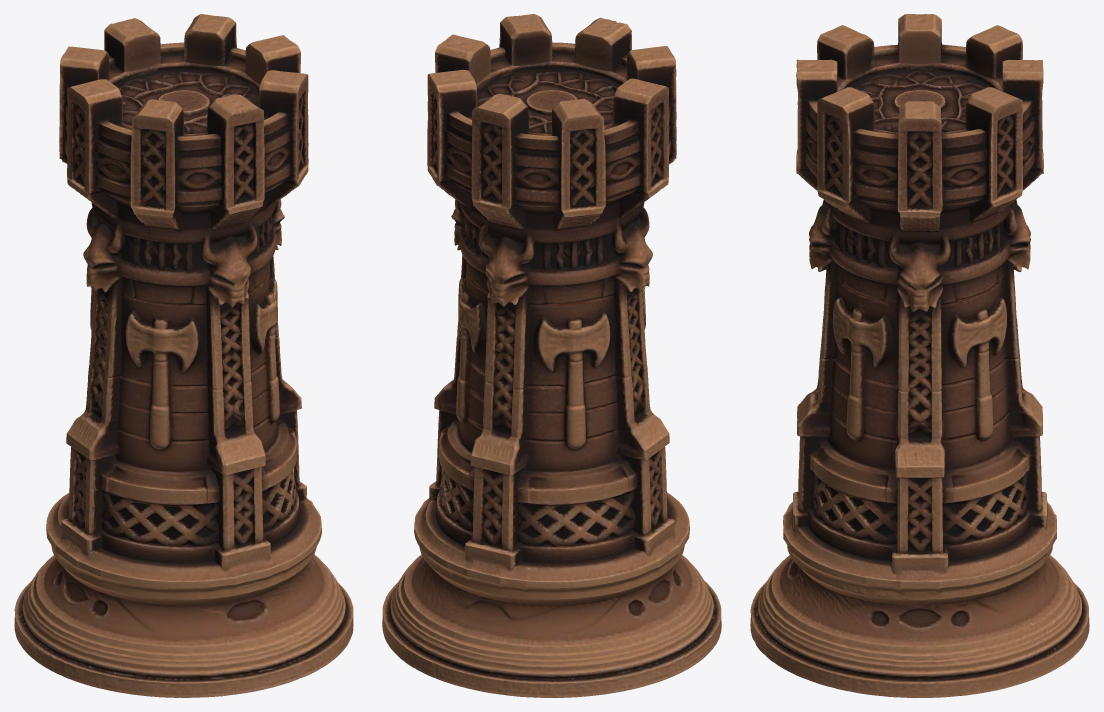
The model's file is rook+3d.glb.
The picture shows the model from 3 angles, left to right: view 1: azimuth 30°, elevation 25°; view 2: azimuth 150°, elevation 25°; view 3: azimuth 270°, elevation 25°; orthographic projection.
Visible parts, largest first — view 1: tripo_node_6d227cfe-8f24-4327-b40f-f8115afd7fbe; view 2: tripo_node_6d227cfe-8f24-4327-b40f-f8115afd7fbe; view 3: tripo_node_6d227cfe-8f24-4327-b40f-f8115afd7fbe.
Part boxes in pixels (x1=…): tripo_node_6d227cfe-8f24-4327-b40f-f8115afd7fbe: x1=14, y1=14, x2=353, y2=697; tripo_node_6d227cfe-8f24-4327-b40f-f8115afd7fbe: x1=382, y1=14, x2=721, y2=697; tripo_node_6d227cfe-8f24-4327-b40f-f8115afd7fbe: x1=750, y1=14, x2=1089, y2=697.
Bounding box in the file's own units: 0.5457 × 0.9962 × 0.5457.
Materials: 1 (1 with a texture image).
